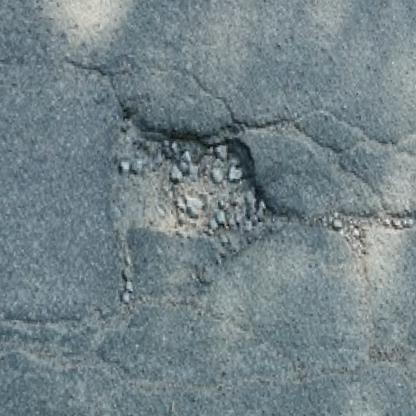pothole: (124, 121, 281, 237)
